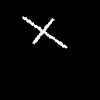single_crochet: (23, 17, 66, 47)
